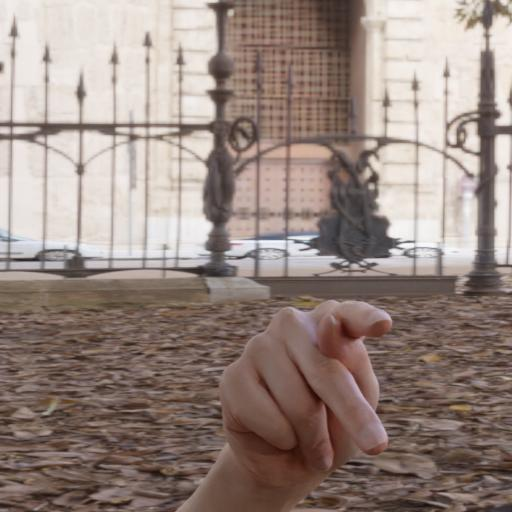P: (188, 272, 410, 512)
